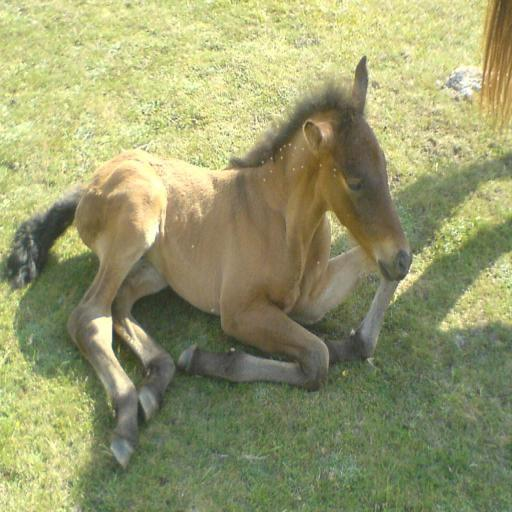horse: (4, 51, 414, 475)
